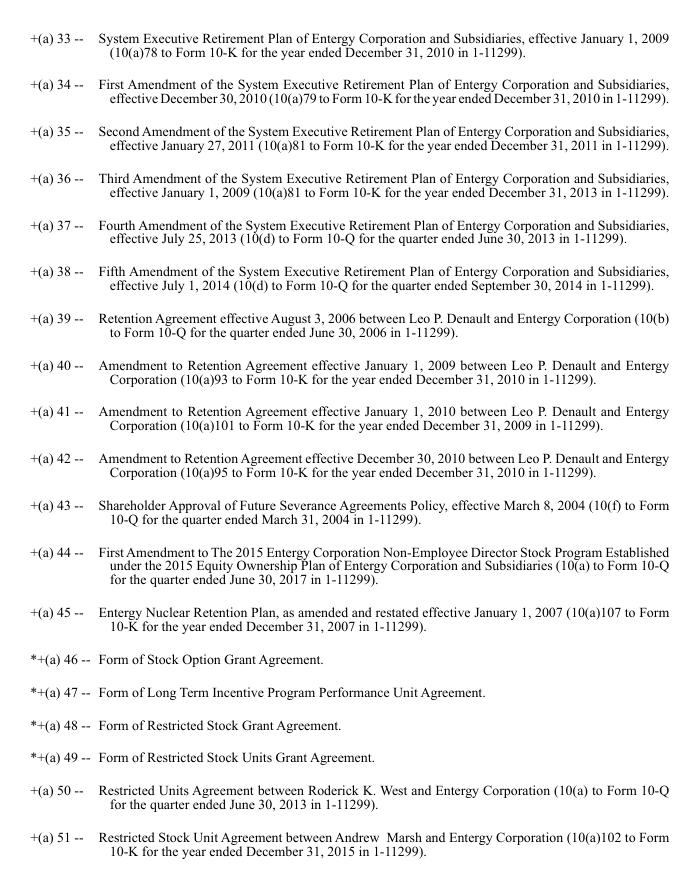table: (29, 29, 668, 857)
table column: (93, 29, 668, 857), (29, 29, 93, 857)
table row: (29, 534, 668, 595), (29, 67, 668, 114), (29, 160, 668, 207), (29, 207, 668, 254), (29, 300, 668, 347), (29, 347, 668, 394), (29, 394, 668, 441), (29, 487, 668, 534), (29, 114, 668, 160), (29, 254, 668, 300), (29, 441, 668, 487), (29, 595, 668, 641), (29, 773, 668, 819), (29, 29, 668, 67), (29, 819, 668, 857), (29, 641, 668, 674), (29, 674, 668, 707), (29, 707, 668, 740), (29, 740, 668, 773)
